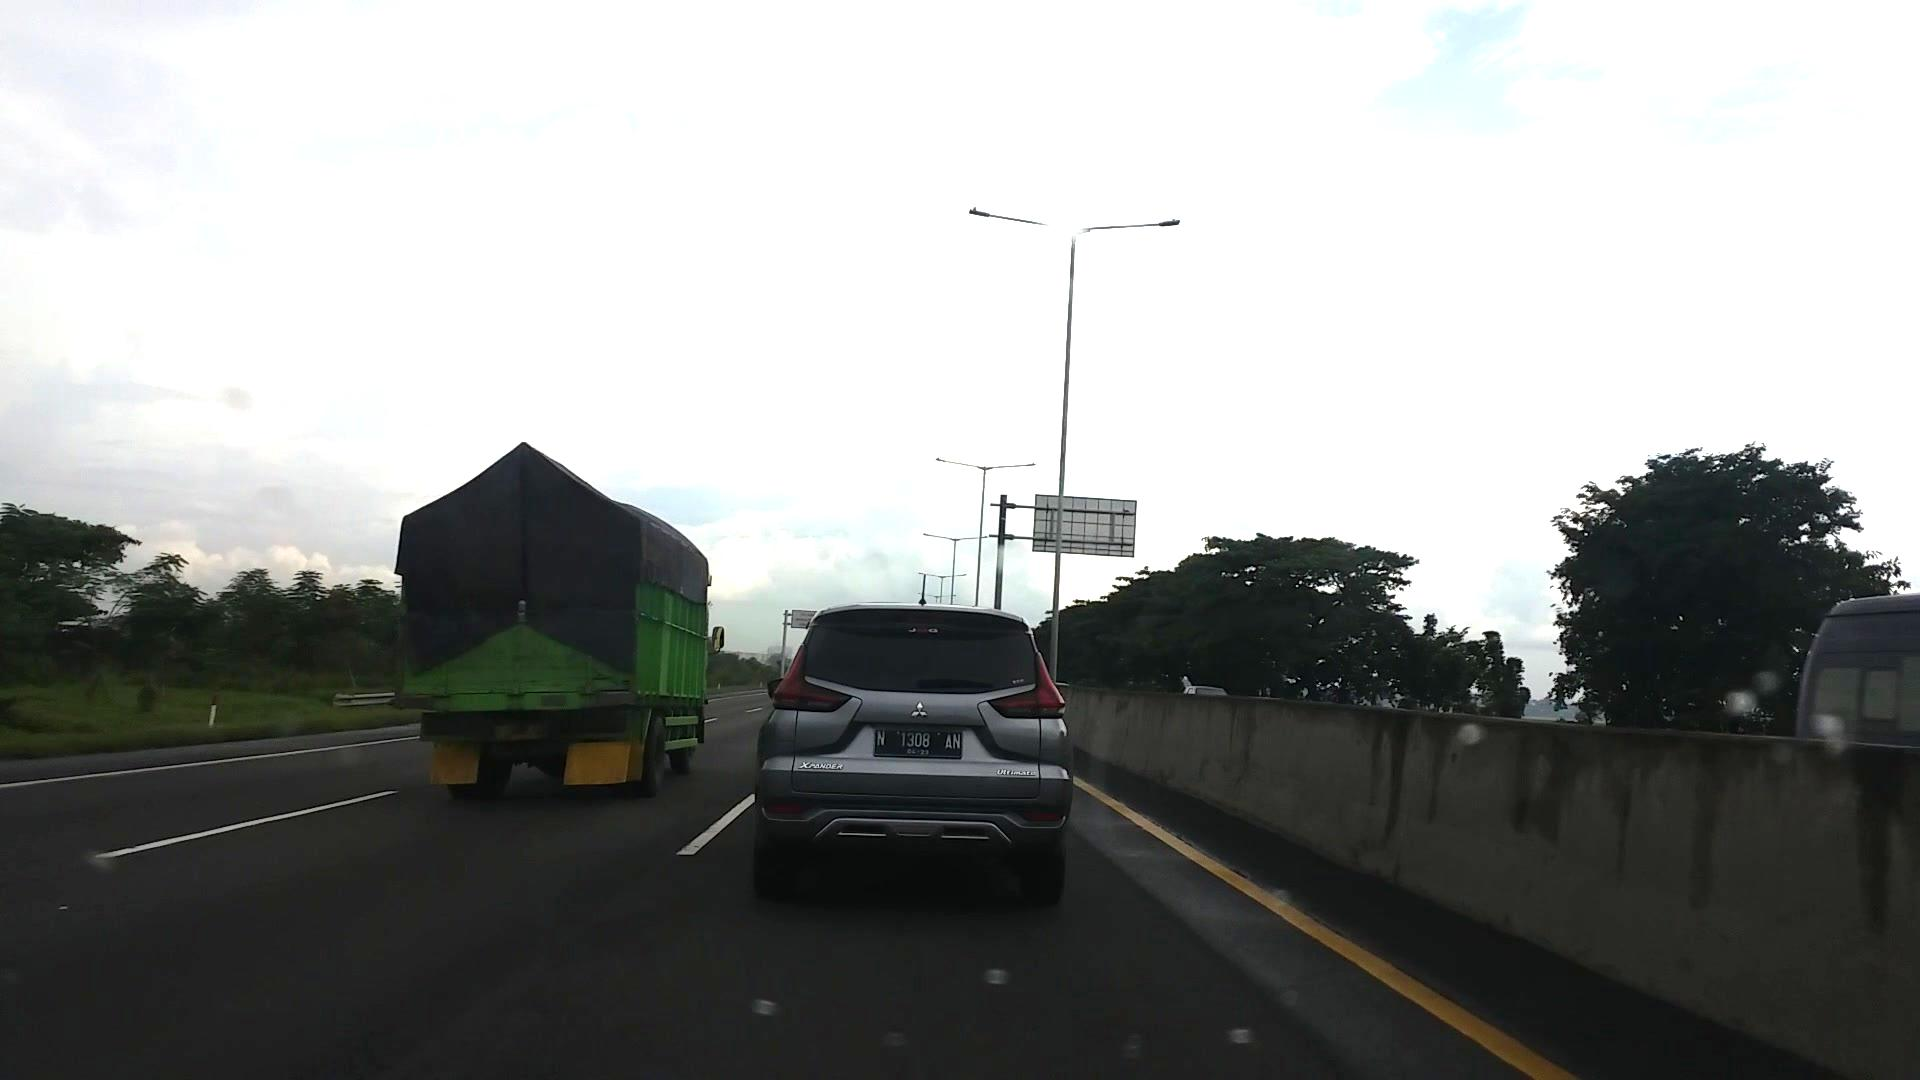plate_positive: (874, 727, 963, 760)
